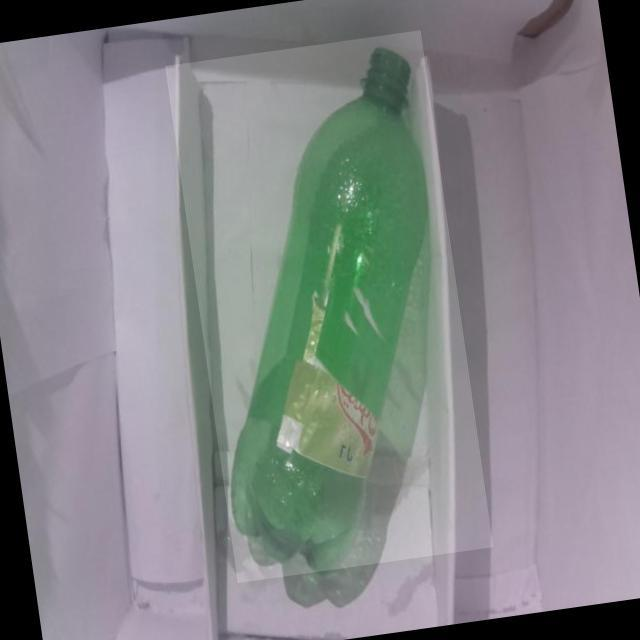good: (164, 29, 492, 582)
